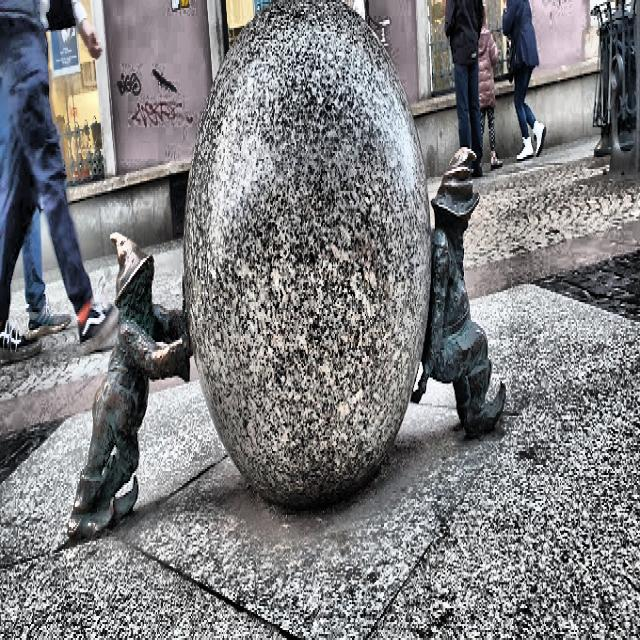Syzyfki: (55, 0, 513, 560)
